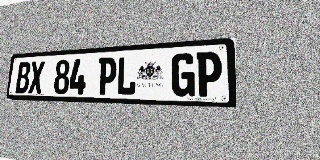4: (69, 59, 87, 95)
8: (53, 59, 71, 94)
B: (15, 62, 31, 93)
G: (171, 53, 195, 97)
L: (116, 56, 137, 95)
P: (196, 51, 222, 97), (97, 57, 117, 95)
X: (28, 61, 45, 94)
